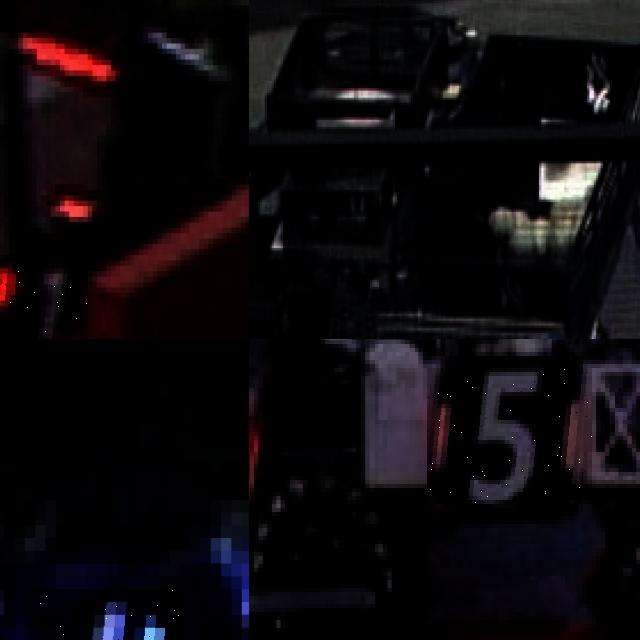B4: (25, 589, 180, 640)
R1: (0, 260, 87, 339)
R5: (427, 368, 592, 504)
